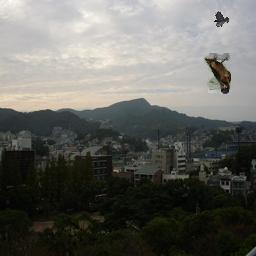Crow: (213, 11, 230, 27)
Swallow: (205, 54, 232, 95)
